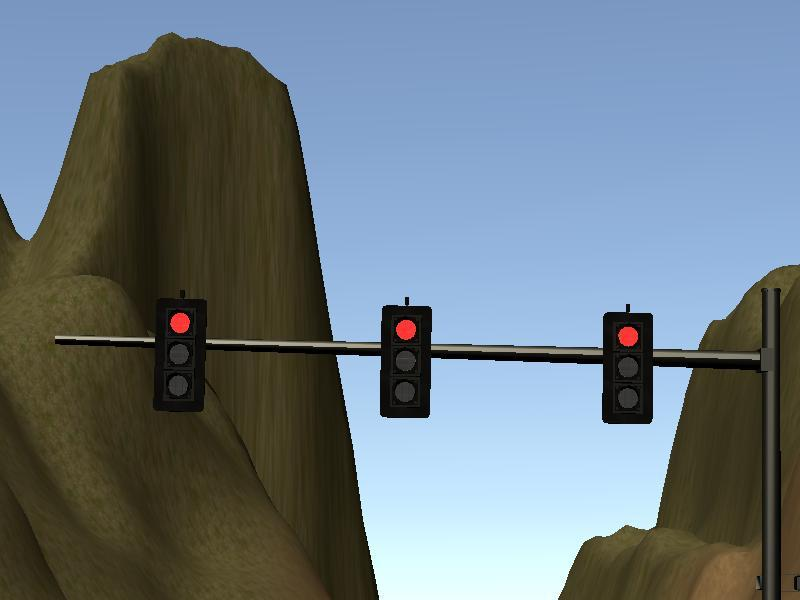Red: (152, 297, 204, 410), (153, 299, 205, 412), (602, 310, 654, 423), (380, 306, 432, 419)
